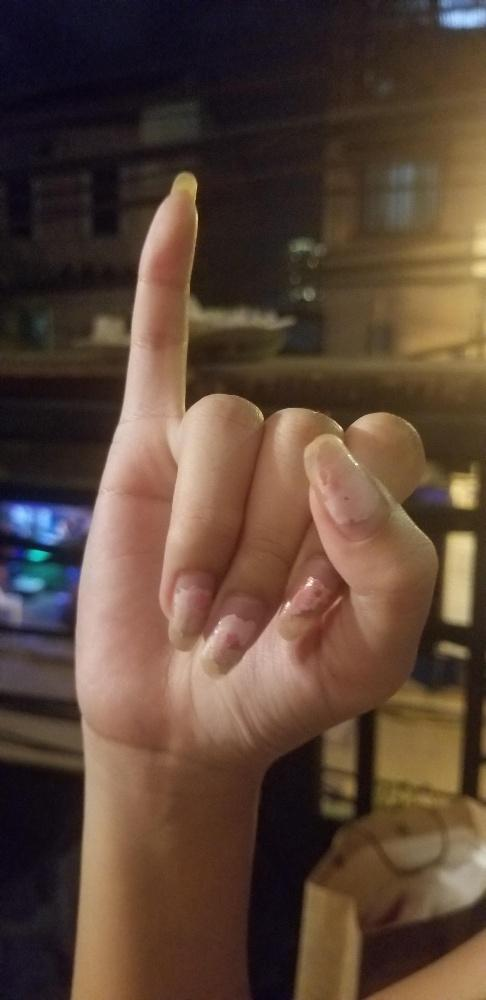i: (71, 167, 439, 766)
